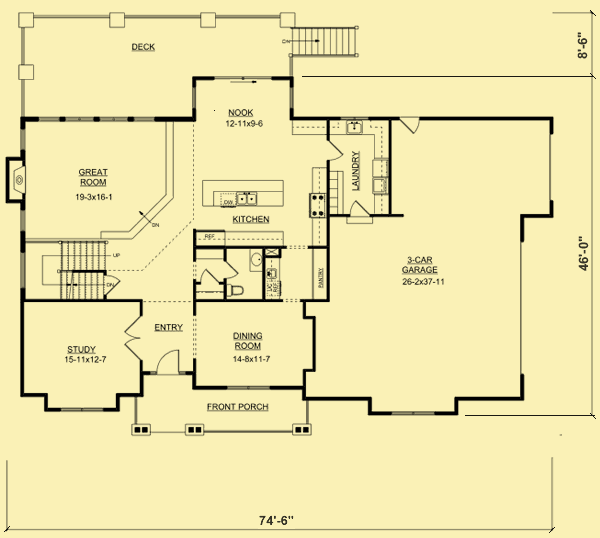door: (122, 313, 145, 359), (151, 344, 183, 376), (396, 109, 425, 134), (347, 200, 371, 219), (221, 256, 239, 280), (326, 138, 343, 162), (199, 267, 220, 285)
kitchen bar: (199, 177, 288, 212)
large sink: (225, 281, 249, 301)
sink: (10, 163, 30, 197), (342, 117, 366, 138)
small sink: (248, 247, 263, 274)
stairs: (23, 235, 107, 302), (280, 23, 362, 61)
windows: (34, 112, 157, 126), (16, 248, 29, 290), (55, 404, 104, 415), (388, 409, 438, 419)
